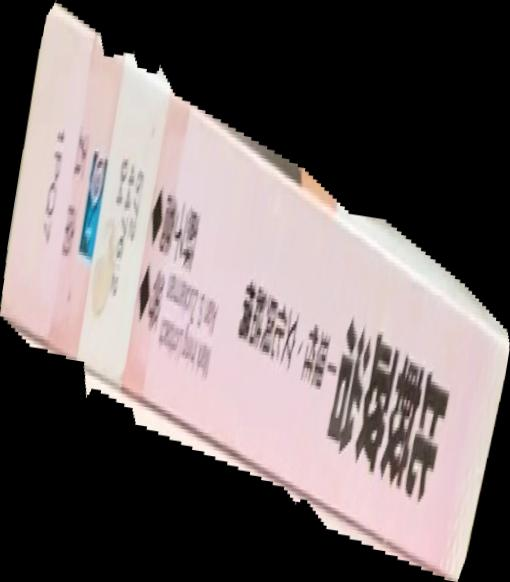flat: (1, 1, 510, 582)
